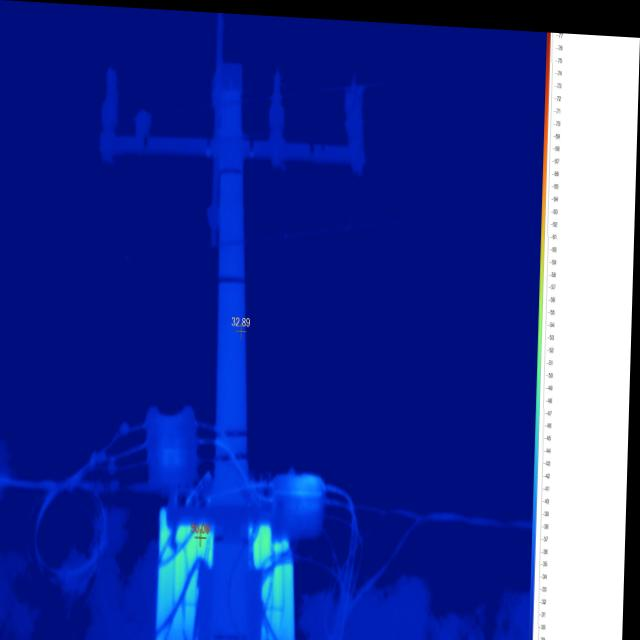Normal: (141, 493, 304, 640)
